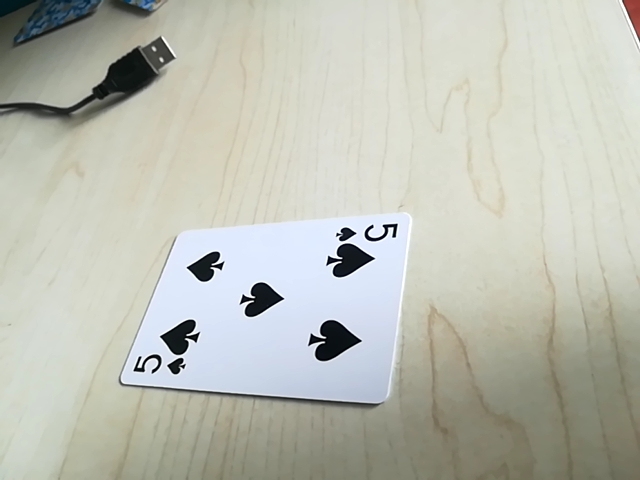ht 5: (122, 350, 195, 384), (335, 217, 399, 246)
